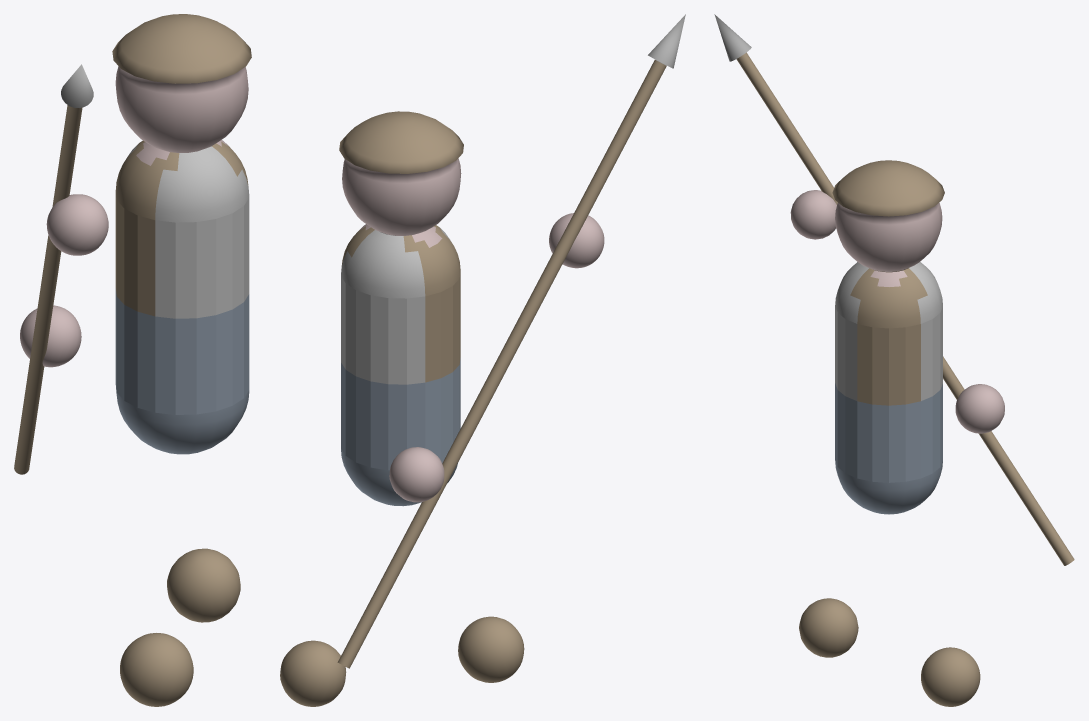
The model's file is rayman_pikeman_mesh_noAni.fbx.
The picture shows the model from 3 angles, left to right: view 1: azimuth 30°, elevation 25°; view 2: azimuth 150°, elevation 25°; view 3: azimuth 270°, elevation 25°; orthographic projection. The views are drawn at different scales.
Visible parts, largest first — view 1: polySurface5, polySurface4, polySurface3, polySurface8, polySurface9, polySurface7, polySurface6; view 2: polySurface5, polySurface4, polySurface3, polySurface8, polySurface9, polySurface6, polySurface7; view 3: polySurface5, polySurface4, polySurface3, polySurface9, polySurface8, polySurface6, polySurface7.
Part boxes in pixels (x1=…): polySurface5: x1=115, y1=140, x2=249, y2=454; polySurface4: x1=112, y1=14, x2=251, y2=152; polySurface3: x1=14, y1=64, x2=93, y2=474; polySurface8: x1=120, y1=633, x2=193, y2=706; polySurface9: x1=167, y1=548, x2=240, y2=622; polySurface7: x1=46, y1=194, x2=108, y2=255; polySurface6: x1=20, y1=305, x2=81, y2=367; polySurface5: x1=341, y1=224, x2=460, y2=506; polySurface4: x1=339, y1=111, x2=463, y2=235; polySurface3: x1=337, y1=14, x2=685, y2=668; polySurface8: x1=458, y1=616, x2=524, y2=682; polySurface9: x1=280, y1=640, x2=346, y2=706; polySurface6: x1=389, y1=447, x2=444, y2=502; polySurface7: x1=549, y1=213, x2=604, y2=268; polySurface5: x1=835, y1=262, x2=942, y2=514; polySurface4: x1=832, y1=160, x2=944, y2=271; polySurface3: x1=714, y1=14, x2=1074, y2=565; polySurface9: x1=921, y1=647, x2=980, y2=706; polySurface8: x1=799, y1=598, x2=858, y2=657; polySurface6: x1=955, y1=384, x2=1004, y2=433; polySurface7: x1=790, y1=190, x2=836, y2=239.
Bounding box in the file's own units: 108 × 249 × 139.
